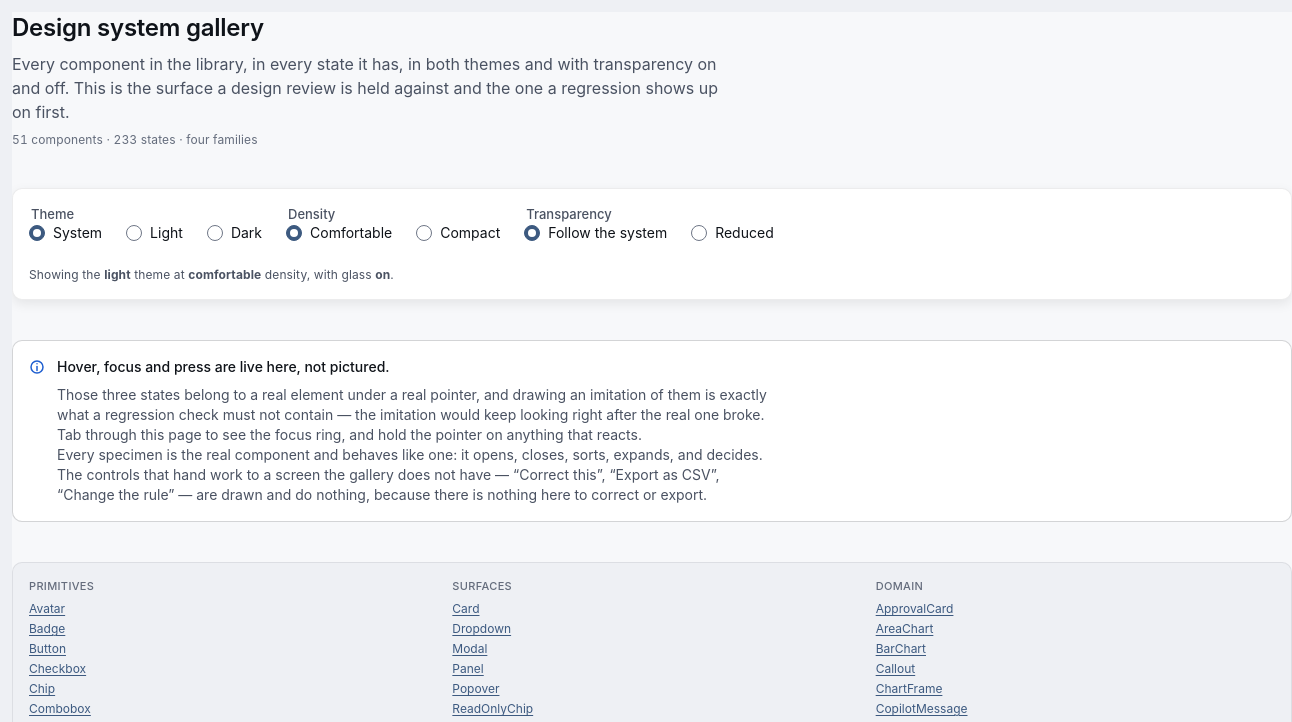
Scenario: the component gallery › the three preferences › turns transparency off, which is a first-class variant and not a fallback
Click the radio button labelled "Reduced".
click(744, 233)  # box [715, 223, 774, 243]
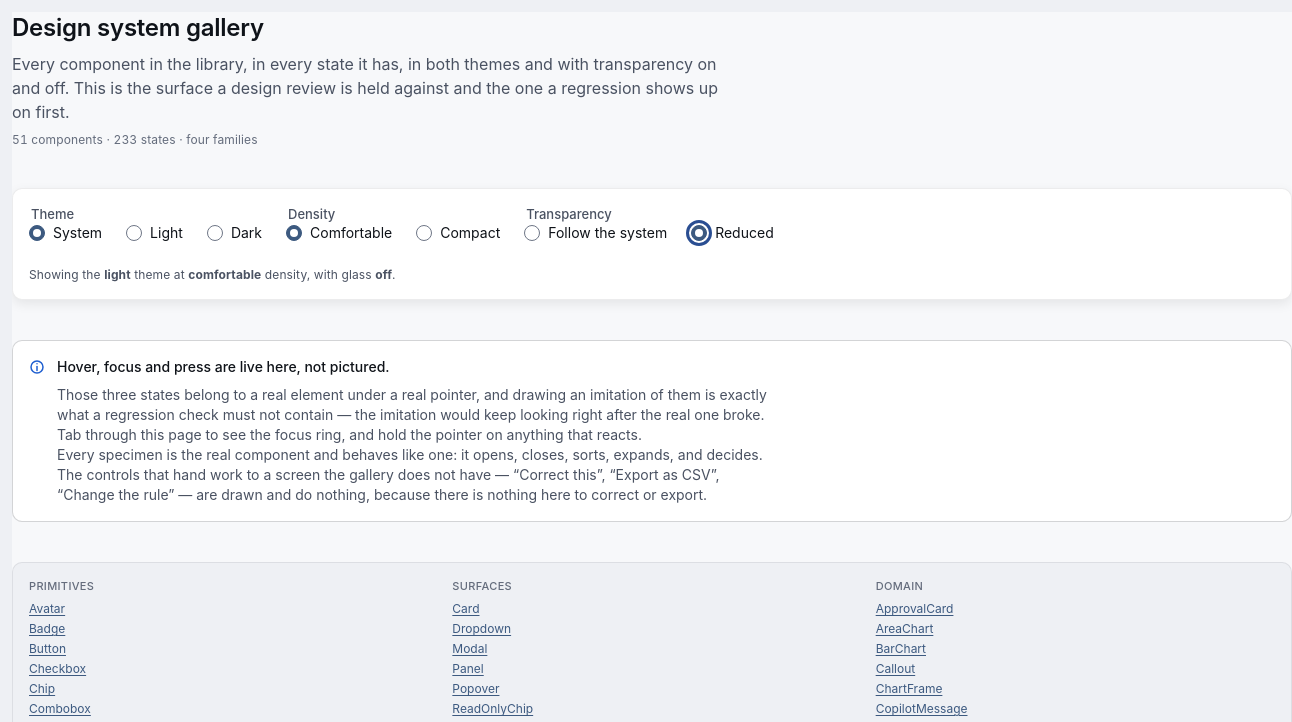
Expected: the text "Showing the" shows "glass off", [29, 267, 396, 282]
